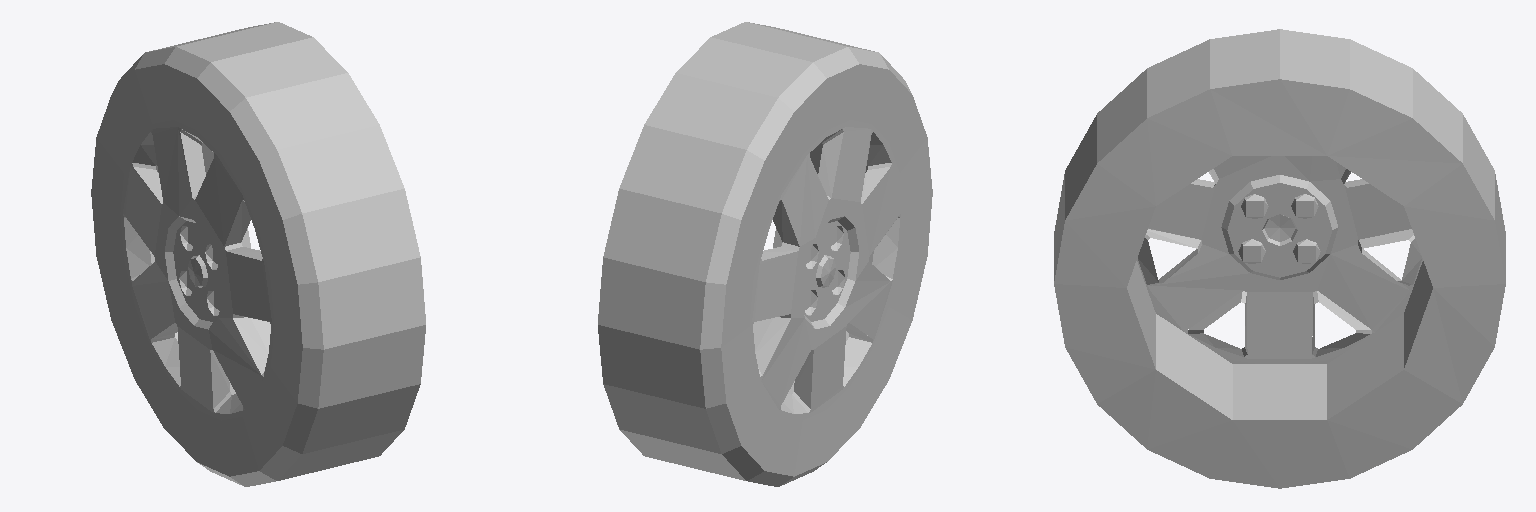
Rendered from rightbacktire.obj.
3 renders of one model, left to right at view 1: azimuth 30°, elevation 25°; view 2: azimuth 150°, elevation 25°; view 3: azimuth 270°, elevation 25°, orthographic.
Visible parts, largest first — view 1: wheel4; view 2: wheel4; view 3: wheel4.
Part boxes in pixels (bbox=[...]): wheel4: bbox=[91, 22, 425, 486]; wheel4: bbox=[598, 22, 932, 486]; wheel4: bbox=[1054, 29, 1505, 488].
Bounding box in the file's own units: 0.194 × 0.6109 × 0.6109.